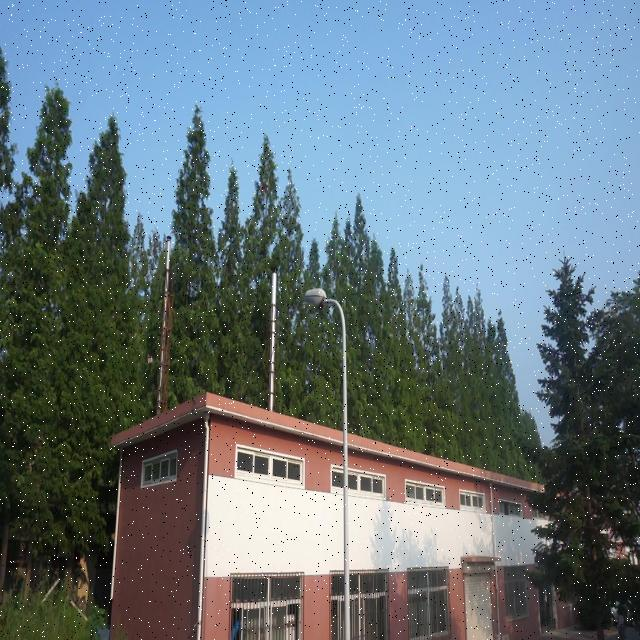UAV: (260, 182, 268, 192)
